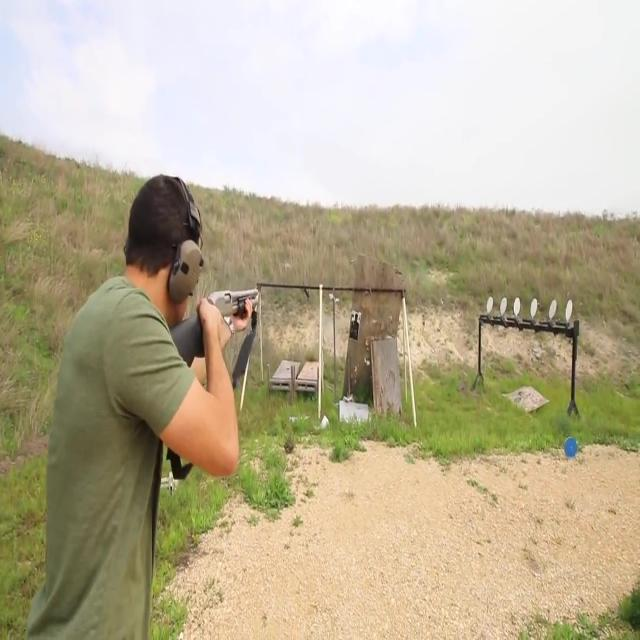Weapon: (152, 274, 268, 410)
